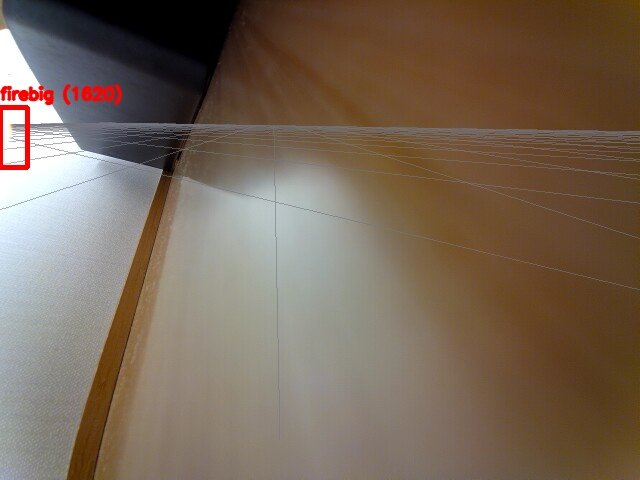firebig: (0, 107, 27, 167)
